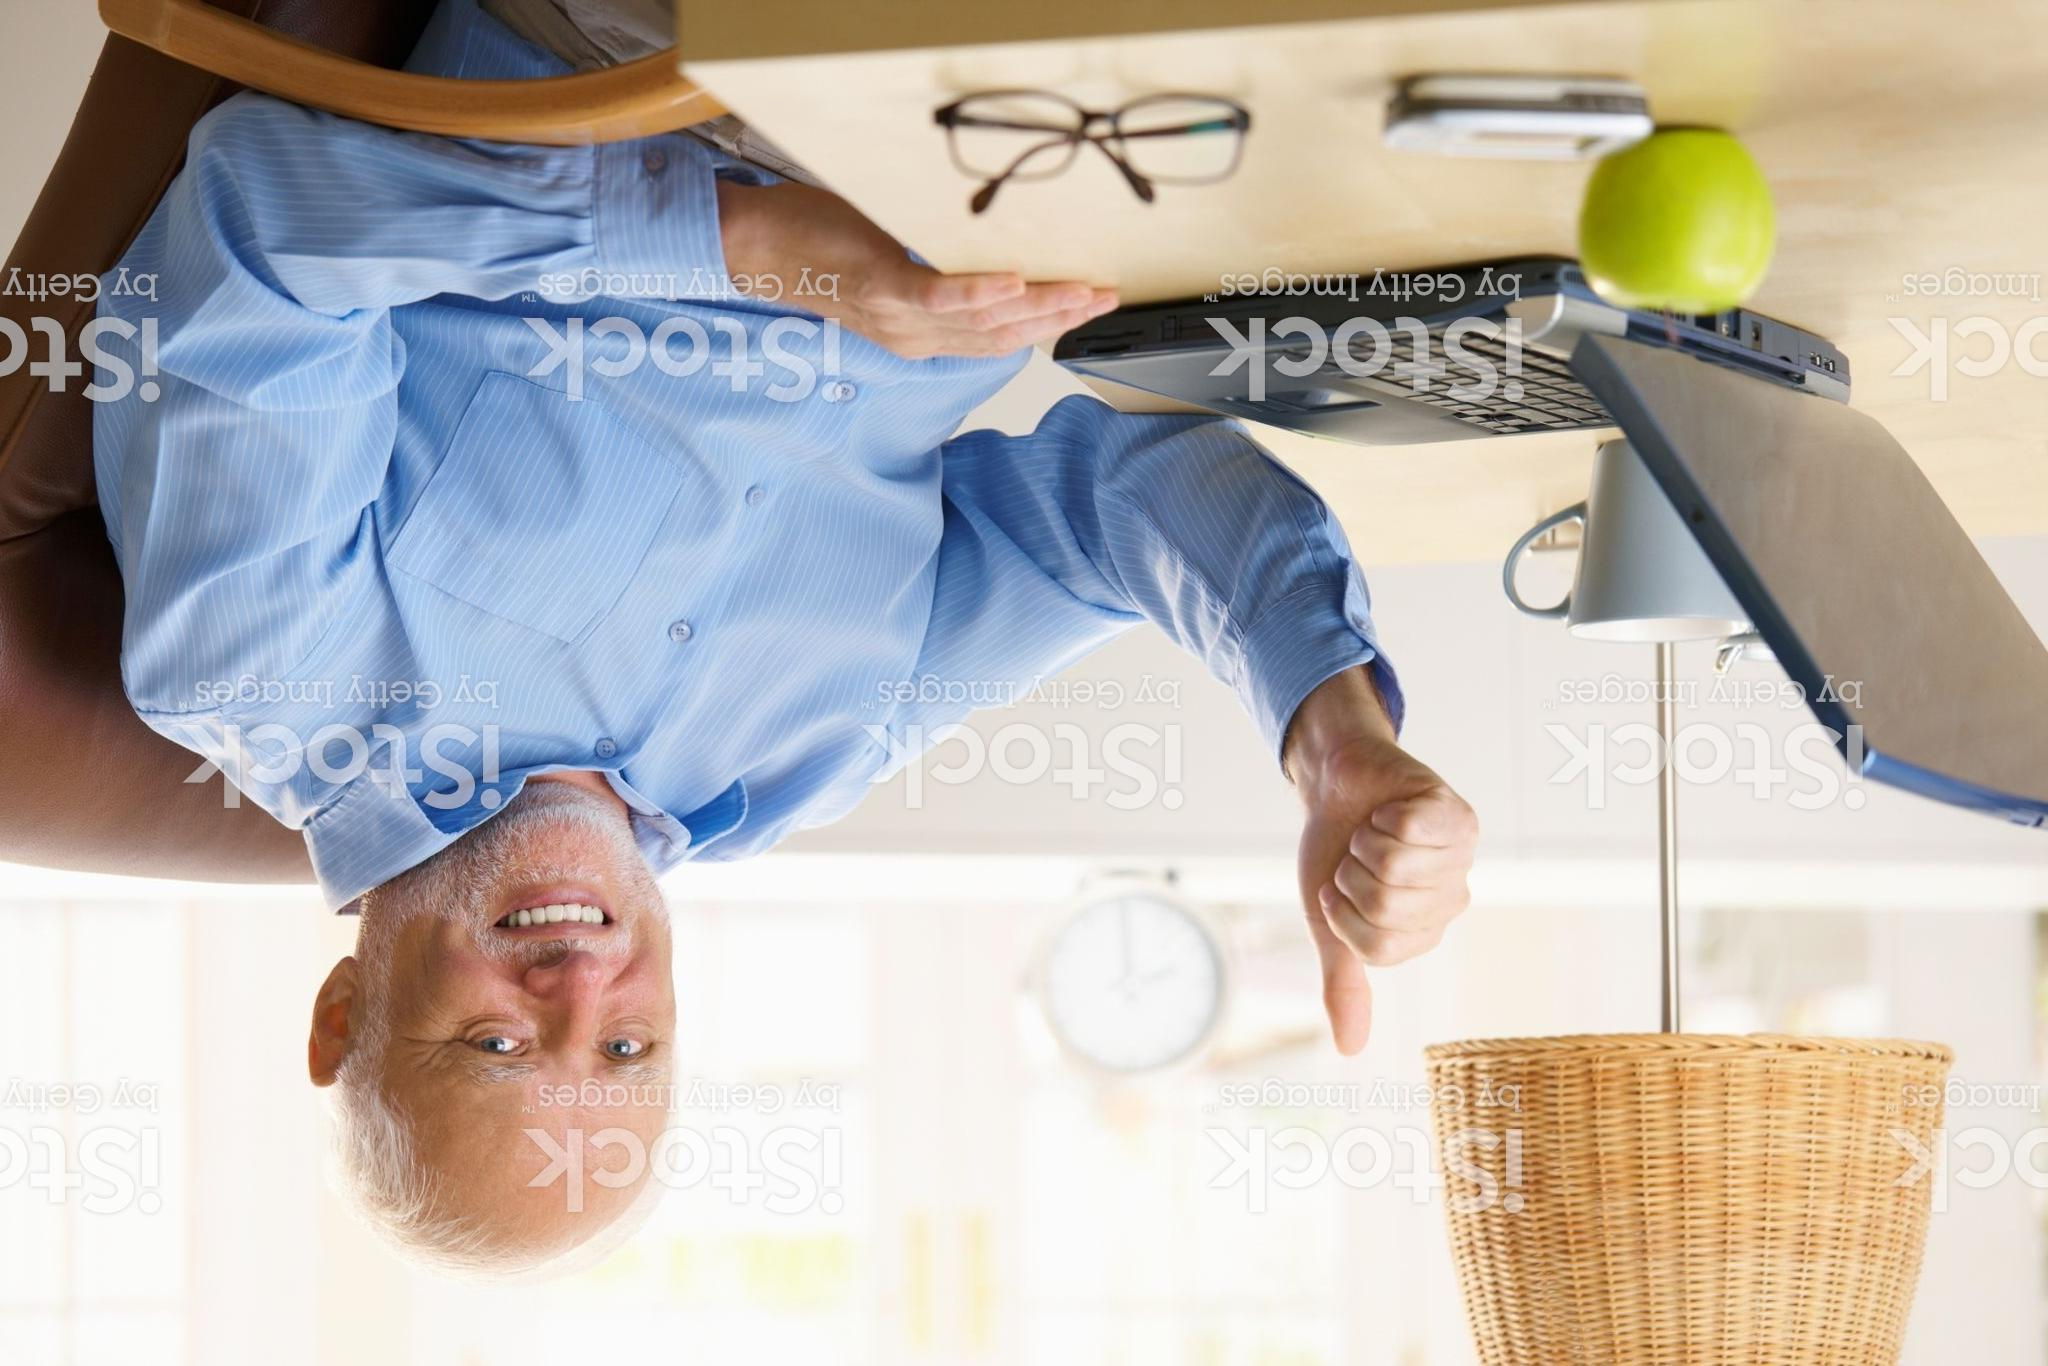thumbsdown: (1320, 791, 1480, 1058)
